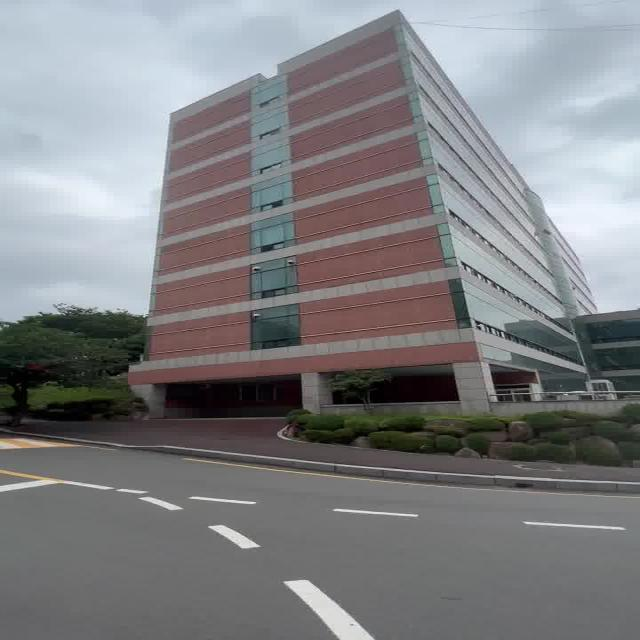building: (170, 16, 530, 372)
